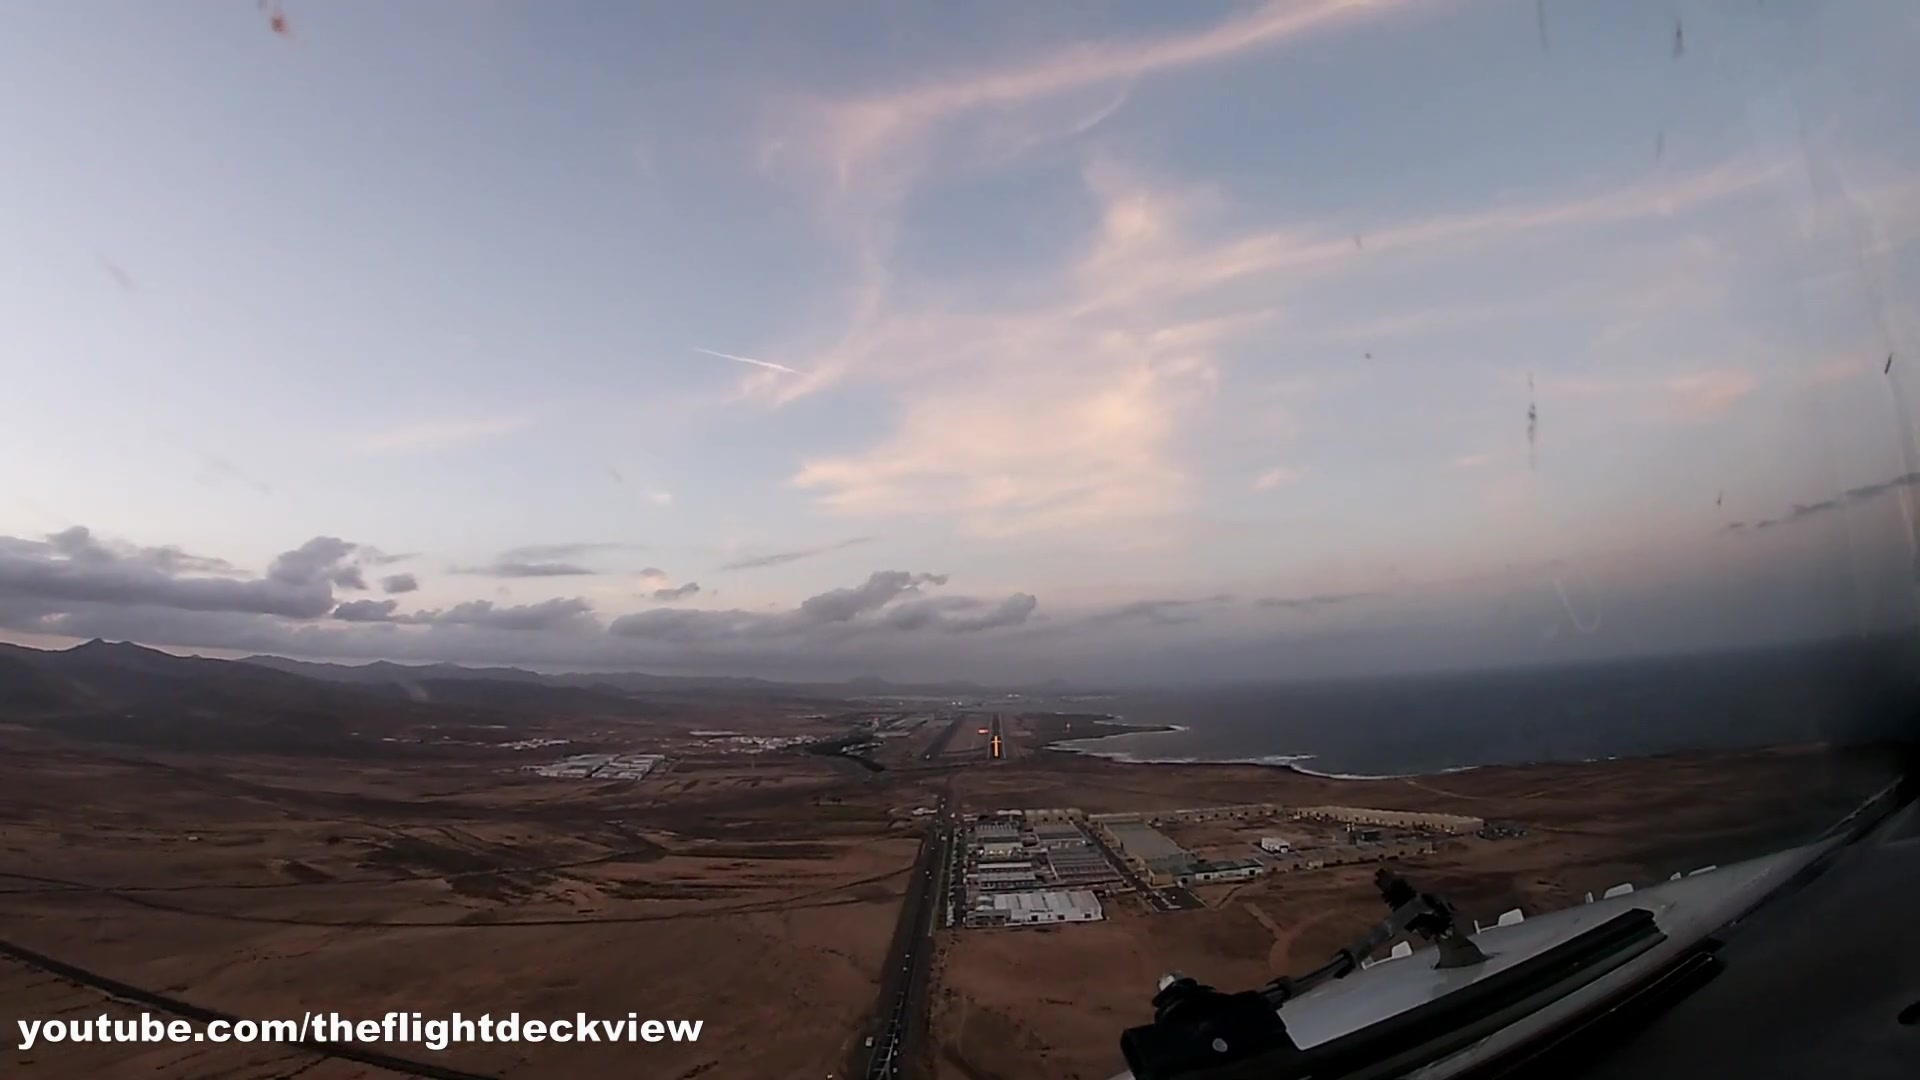runway: (986, 711, 1006, 760)
